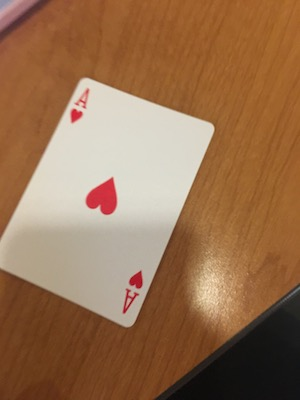AceOfHearts: (9, 75, 218, 330)
